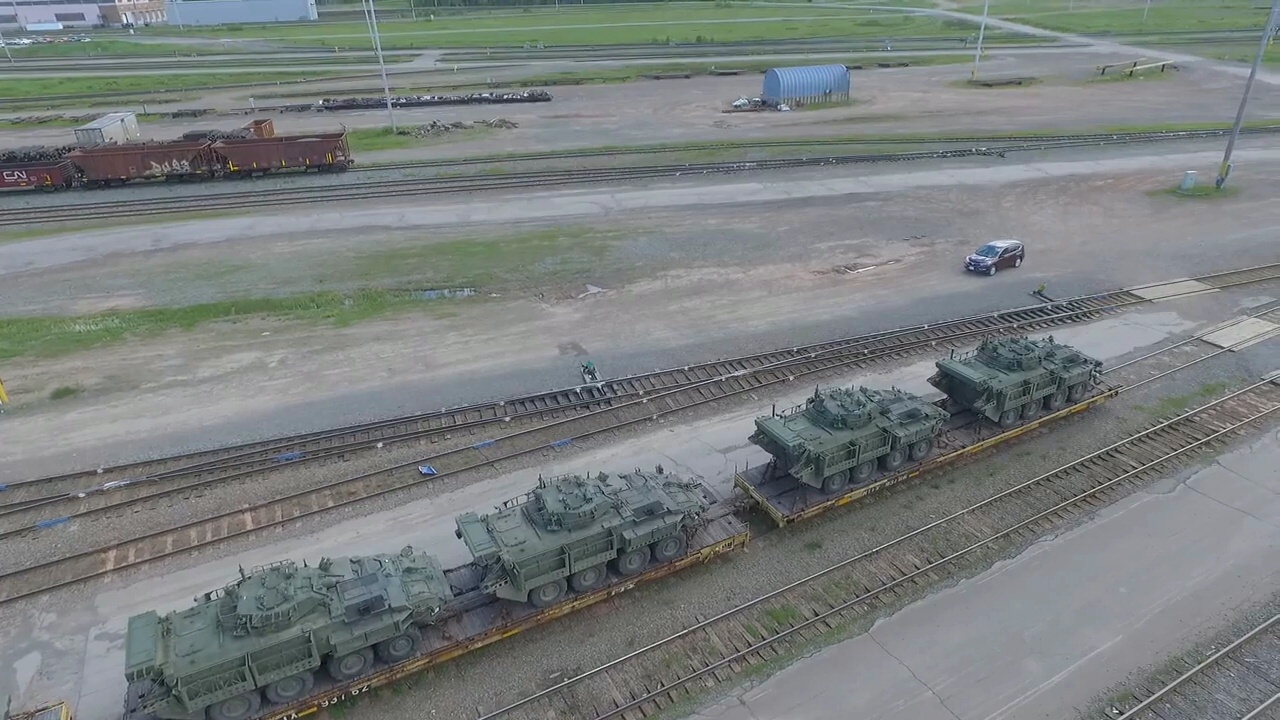araba: (961, 241, 1027, 274)
tank: (122, 540, 455, 720), (452, 464, 705, 609), (744, 383, 956, 509), (929, 326, 1102, 418)
